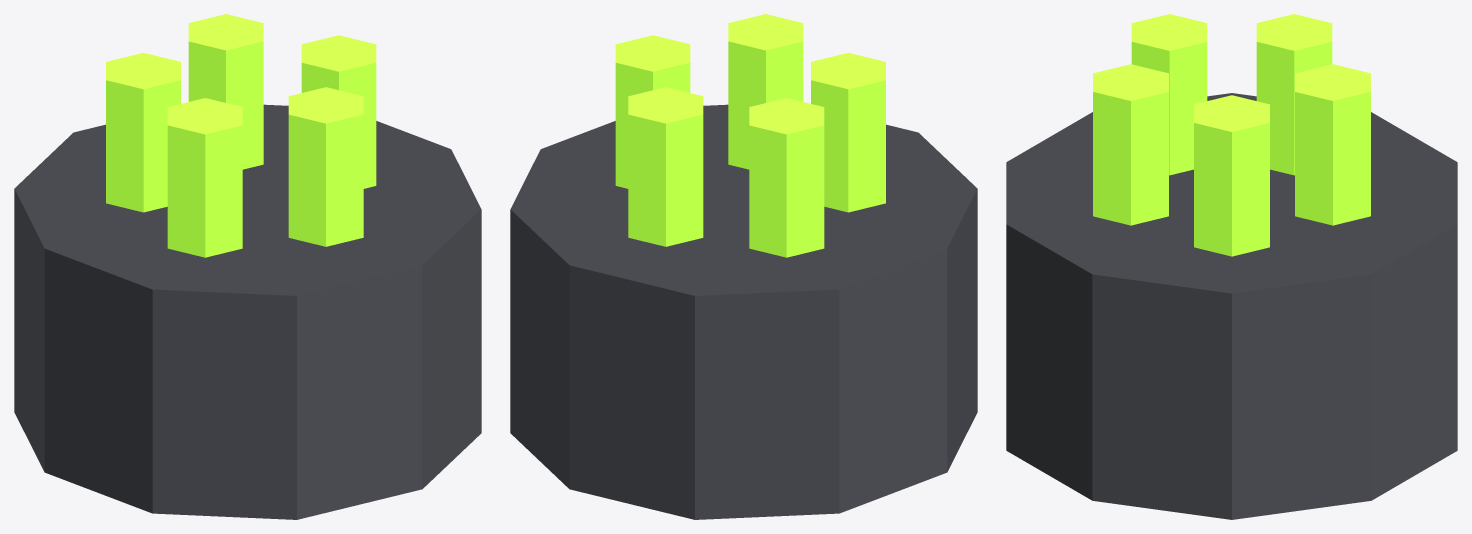
File: item_enriched_uranium.glb
3 views of the same model, side by side, from view 1: azimuth 30°, elevation 25°; view 2: azimuth 150°, elevation 25°; view 3: azimuth 270°, elevation 25° (orthographic).
Parts seen in each view (by area): view 1: item_enriched_uranium; view 2: item_enriched_uranium; view 3: item_enriched_uranium.
Boxes of the visible parts, x1,y1,x2,y2 form: item_enriched_uranium: (14, 14, 481, 519); item_enriched_uranium: (510, 14, 977, 519); item_enriched_uranium: (1006, 14, 1457, 519).
Bounding box in the file's own units: 0.76 × 0.62 × 0.7228.
